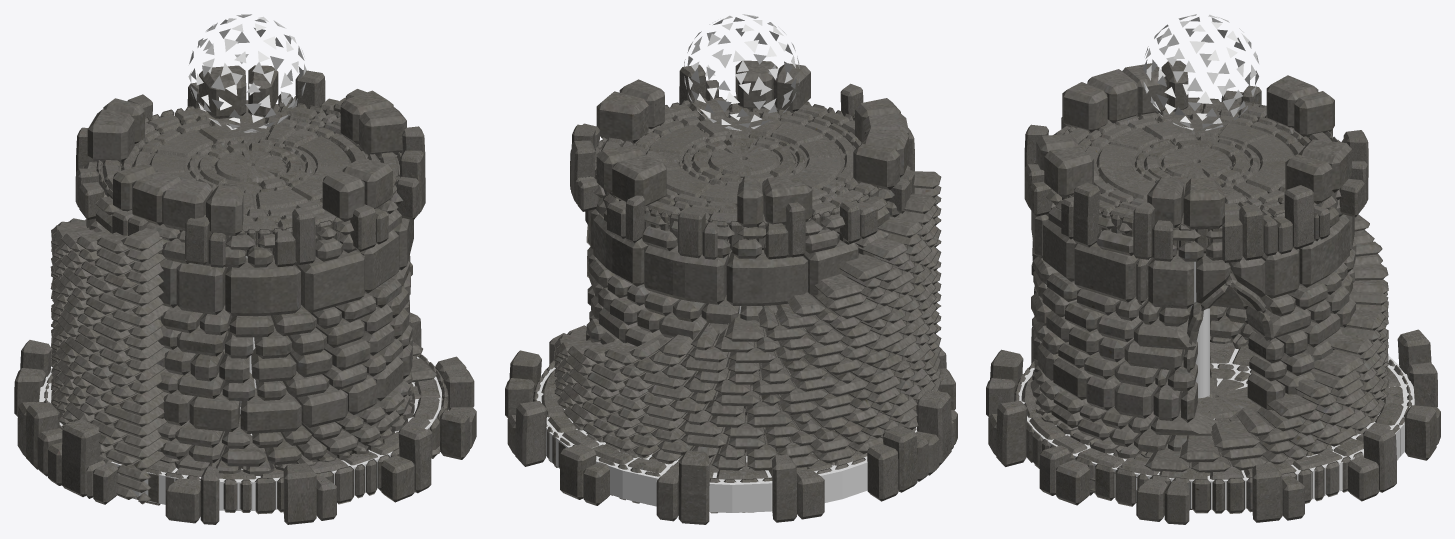
File: tower 5.fbx
3 renders of one model, left to right at view 1: azimuth 30°, elevation 25°; view 2: azimuth 150°, elevation 25°; view 3: azimuth 270°, elevation 25°, orthographic. The views are drawn at different scales.
Visible parts, largest first — view 1: Wall.026, Wall.023, Wall.021, Icosphere.004, Circle.005, Wall.022; view 2: Wall.026, Wall.023, Wall.021, Circle.005, Icosphere.004, Wall.022; view 3: Wall.026, Wall.021, Wall.023, Icosphere.004, Circle.005, Wall.022, Cylinder.004.
Part boxes in pixels (<box>): Wall.026: <box>50,65,443,504</box>; Wall.023: <box>75,70,425,267</box>; Wall.021: <box>14,312,476,524</box>; Icosphere.004: <box>188,14,306,132</box>; Circle.005: <box>39,356,441,510</box>; Wall.022: <box>131,120,368,223</box>; Wall.026: <box>554,60,941,472</box>; Wall.023: <box>570,64,914,259</box>; Wall.021: <box>505,325,957,524</box>; Circle.005: <box>536,367,916,512</box>; Icosphere.004: <box>684,14,799,130</box>; Wall.022: <box>634,110,855,212</box>; Wall.026: <box>1030,60,1388,493</box>; Wall.021: <box>986,327,1440,524</box>; Wall.023: <box>1024,85,1368,262</box>; Icosphere.004: <box>1143,14,1258,130</box>; Circle.005: <box>1018,348,1414,509</box>; Wall.022: <box>1084,111,1305,208</box>; Cylinder.004: <box>1188,261,1209,398</box>.
Bounding box in the file's own units: 2068 × 2045 × 2060.
